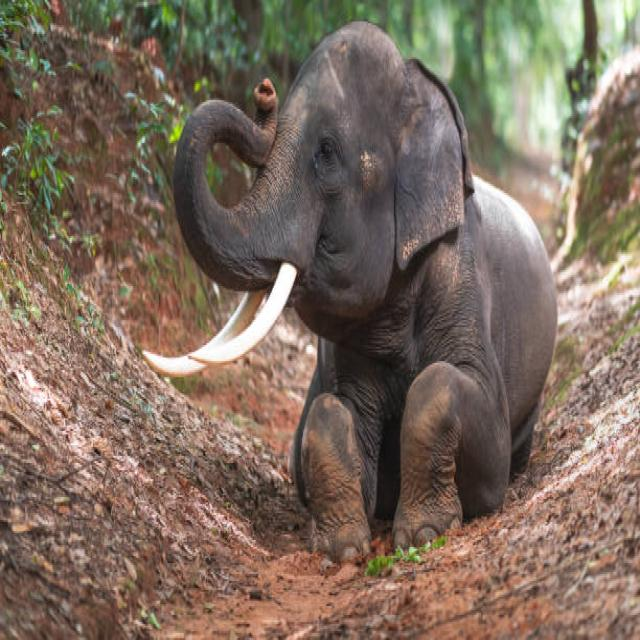Elephant: (142, 15, 572, 569)
